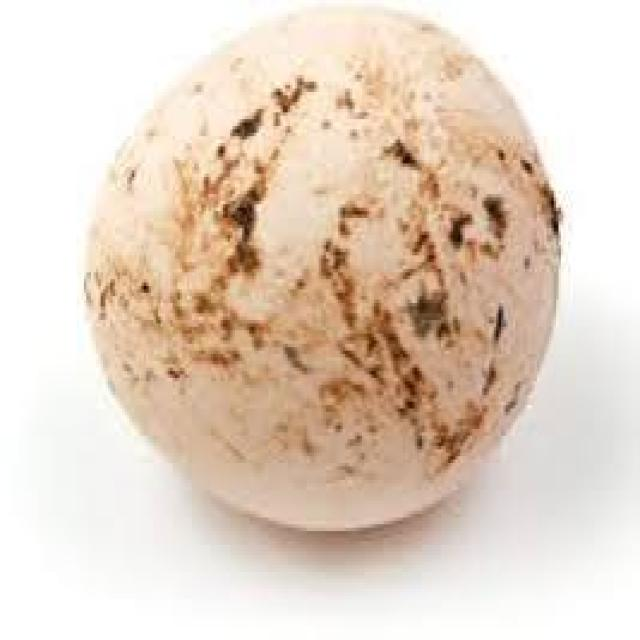Blood Stained Egg: (89, 0, 599, 589)
